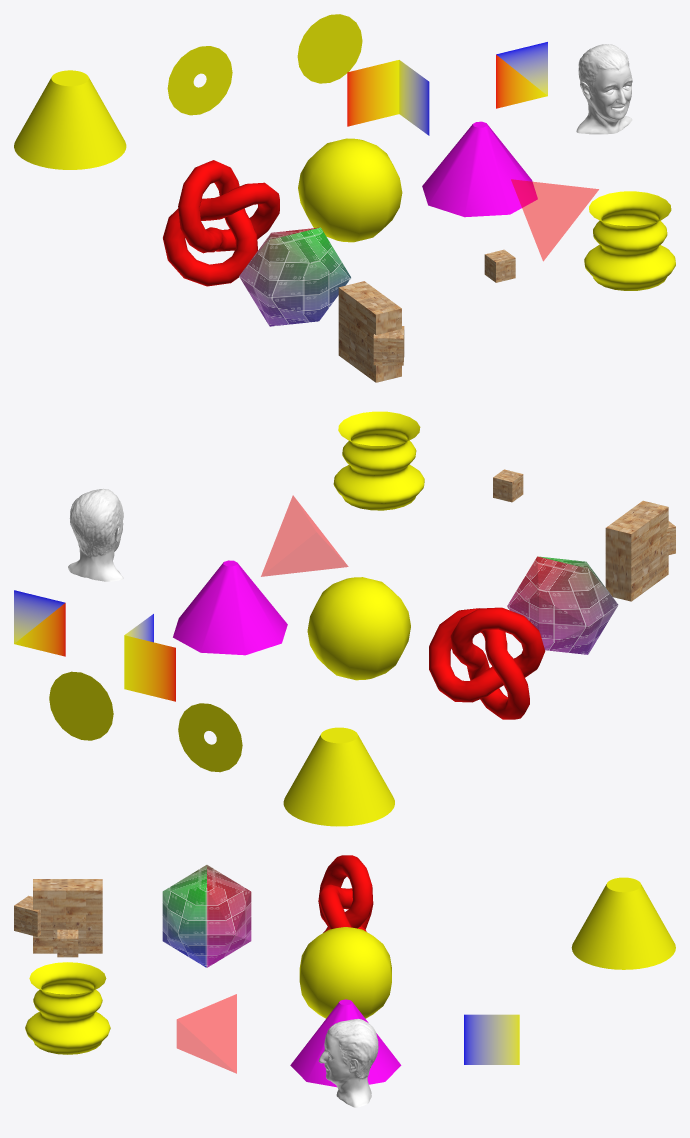
The picture shows the model from 3 angles, top to bottom: view 1: azimuth 30°, elevation 25°; view 2: azimuth 150°, elevation 25°; view 3: azimuth 270°, elevation 25°; orthographic projection. The views are drawn at different scales.
Visible parts, largest first — view 1: Cylinder (×2), Sphere, Icosahedron, object 13, object 14, Custom buffered, Cube, Mesh_Mesh_head_geo.001_lambert2SG.001, Tetrahedron, object 11, object 12, Custom buffered truncated (+2 smaller); view 2: Cylinder (×2), Sphere, object 13, object 14, Icosahedron, Cube, Mesh_Mesh_head_geo.001_lambert2SG.001, Tetrahedron, object 11, object 12, Custom buffered, Custom buffered truncated (+1 smaller); view 3: Icosahedron, Sphere, object 13, object 14, Cylinder (×2), Cube, Mesh_Mesh_head_geo.001_lambert2SG.001, Tetrahedron, Custom buffered, SubCube, Cube in group.
Boxes of the visible parts, <box> form: Cylinder (×2): <box>163,121,537,286</box>; Sphere: <box>298,138,402,242</box>; Icosahedron: <box>239,227,351,326</box>; object 13: <box>14,70,126,169</box>; object 14: <box>584,191,675,290</box>; Custom buffered: <box>347,60,429,135</box>; Cube: <box>338,281,401,382</box>; Mesh_Mesh_head_geo.001_lambert2SG.001: <box>576,44,632,134</box>; Tetrahedron: <box>511,179,598,261</box>; object 11: <box>297,14,362,83</box>; object 12: <box>167,46,232,115</box>; Custom buffered truncated: <box>496,42,547,108</box>; Cylinder (×2): <box>173,560,545,719</box>; Sphere: <box>307,577,410,680</box>; object 13: <box>283,727,394,826</box>; object 14: <box>333,411,424,510</box>; Icosahedron: <box>507,556,618,654</box>; Cube: <box>605,500,668,601</box>; Mesh_Mesh_head_geo.001_lambert2SG.001: <box>68,488,123,581</box>; Tetrahedron: <box>261,495,348,576</box>; object 11: <box>49,671,113,740</box>; object 12: <box>178,703,242,772</box>; Custom buffered: <box>124,614,175,701</box>; Custom buffered truncated: <box>14,590,65,656</box>; Icosahedron: <box>162,865,251,967</box>; Sphere: <box>299,927,391,1018</box>; object 13: <box>571,877,675,969</box>; object 14: <box>25,962,110,1054</box>; Cylinder (×2): <box>290,855,401,1087</box>; Cube: <box>33,879,102,953</box>; Mesh_Mesh_head_geo.001_lambert2SG.001: <box>318,1018,378,1107</box>; Tetrahedron: <box>176,994,236,1073</box>; Custom buffered: <box>464,1014,519,1064</box>; SubCube: <box>14,895,40,936</box>; Cube in group: <box>57,929,78,957</box>.
Bounding box in the file's own units: 717 × 198 × 953.
Materials: 10 (2 with a texture image).
